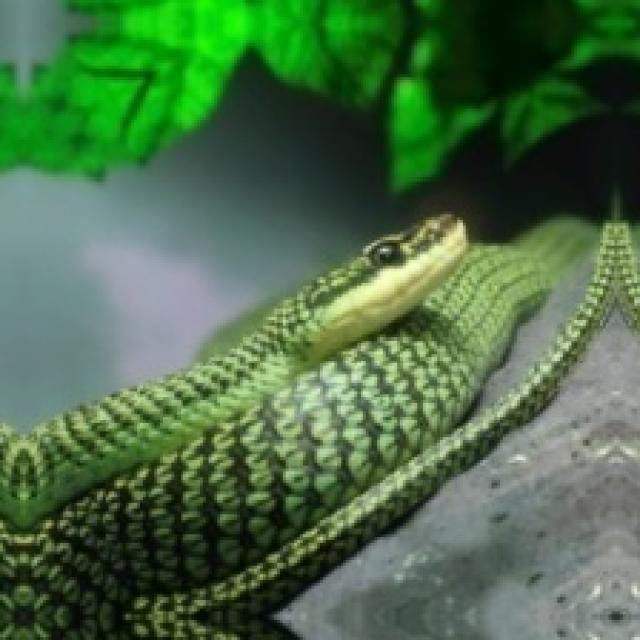paradise tree snake: (0, 220, 637, 637)
